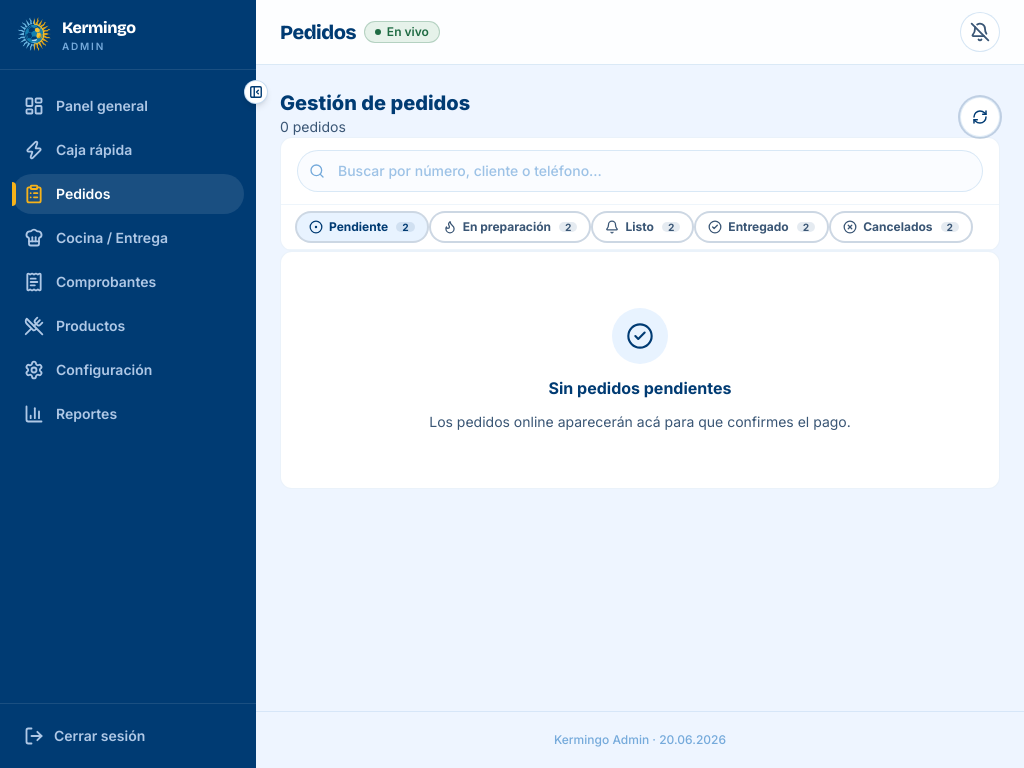
it: OrdersScreen › Edit order modal foundation › exposes edit from the mobile card for delivered orders but not cancelled ones
The image size is (1024, 768).
Later steps or results of the test are not shown.
Click the button with aria-label "ver: entregado" at (762, 227), box [696, 213, 827, 241]
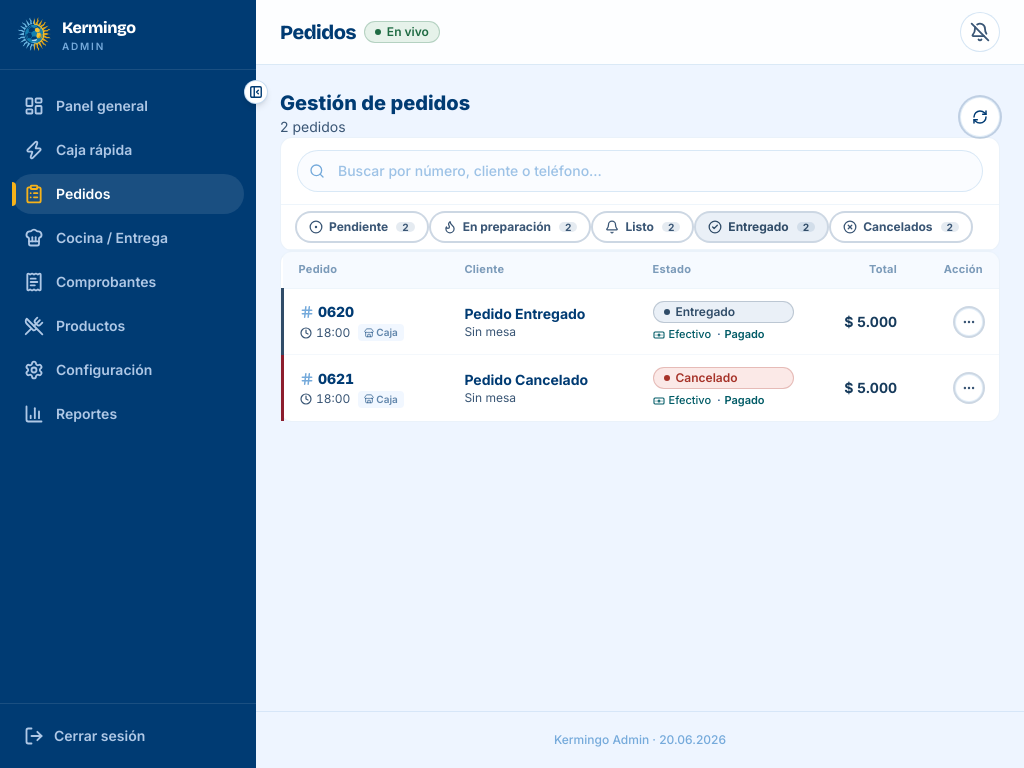
Result: the text "Pedido Entregado" is shown at [464, 304, 586, 322]
